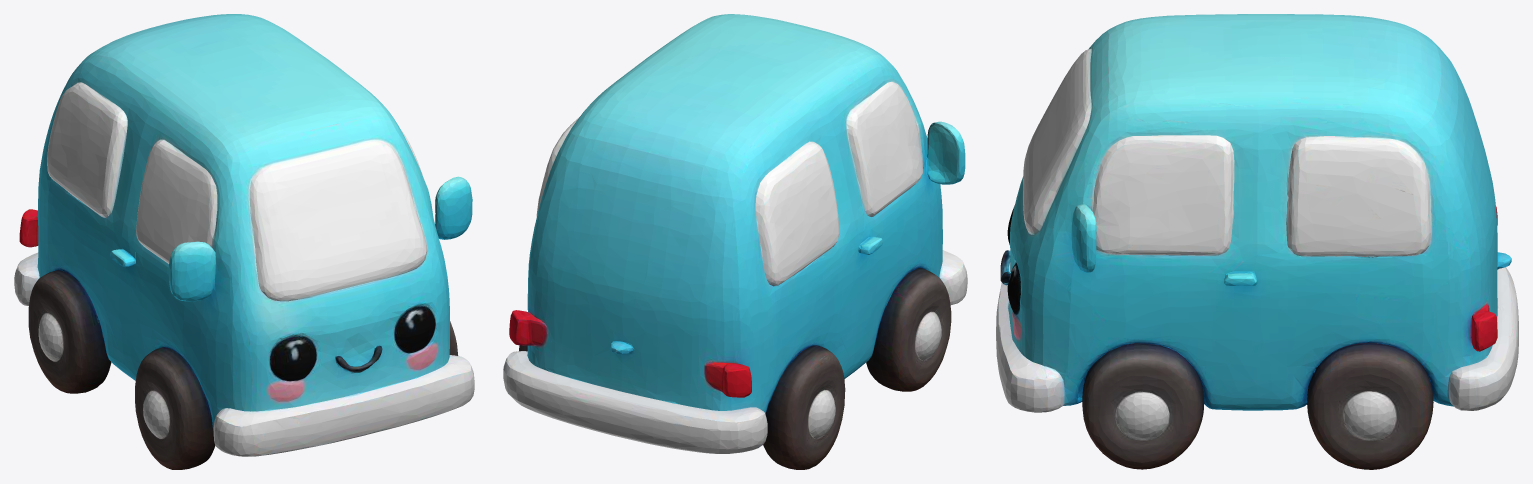
Rendered from van.glb.
The picture shows the model from 3 angles, left to right: view 1: azimuth 30°, elevation 25°; view 2: azimuth 150°, elevation 25°; view 3: azimuth 270°, elevation 25°; orthographic projection. The views are drawn at different scales.
Parts seen in each view (by area): view 1: geometry_0; view 2: geometry_0; view 3: geometry_0.
Boxes of the visible parts, bbox=[...] form: geometry_0: bbox=[14, 14, 474, 469]; geometry_0: bbox=[503, 14, 967, 469]; geometry_0: bbox=[996, 14, 1518, 469].
Size of the model in its own units: 0.7158 by 0.7552 by 0.9983.
Materials: 1 (1 with a texture image).
